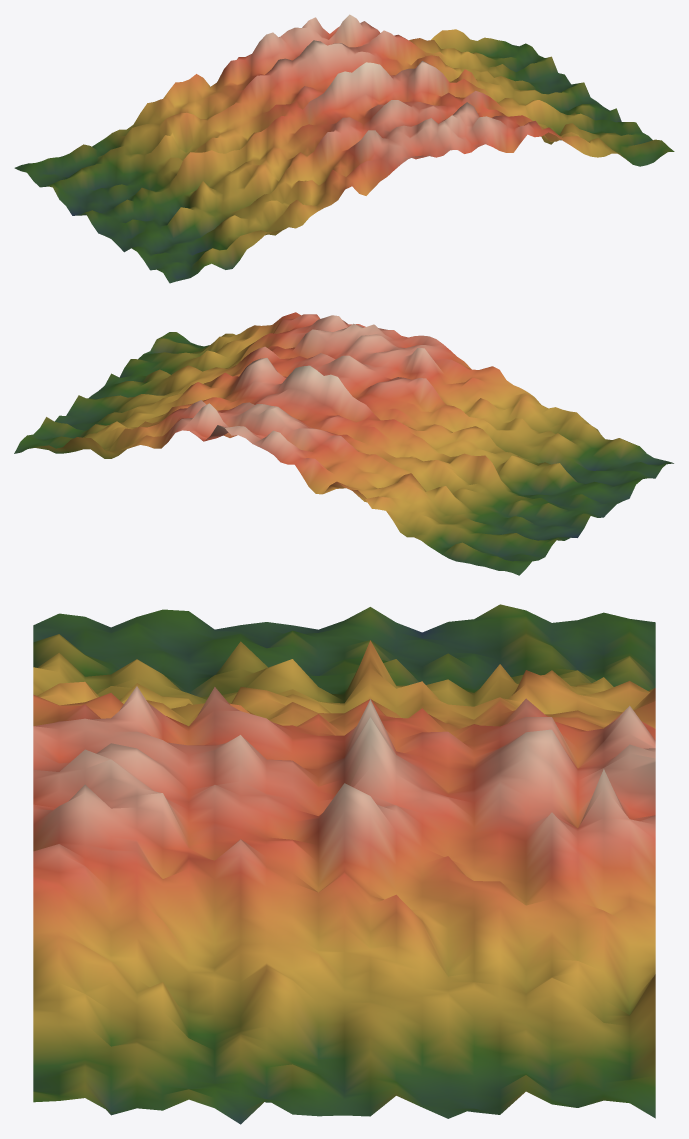
File: climate-iowa.glb
3 views of the same model, one above another, from view 1: azimuth 30°, elevation 25°; view 2: azimuth 150°, elevation 25°; view 3: azimuth 270°, elevation 25° (orthographic). The views are drawn at different scales.
Parts seen in each view (by area): view 1: ridge; view 2: ridge; view 3: ridge.
Boxes of the visible parts, <box> form: ridge: <box>14,14,674,283</box>; ridge: <box>14,312,673,575</box>; ridge: <box>33,604,655,1124</box>.
Size of the model in its own units: 6 by 1.07 by 3.2.
